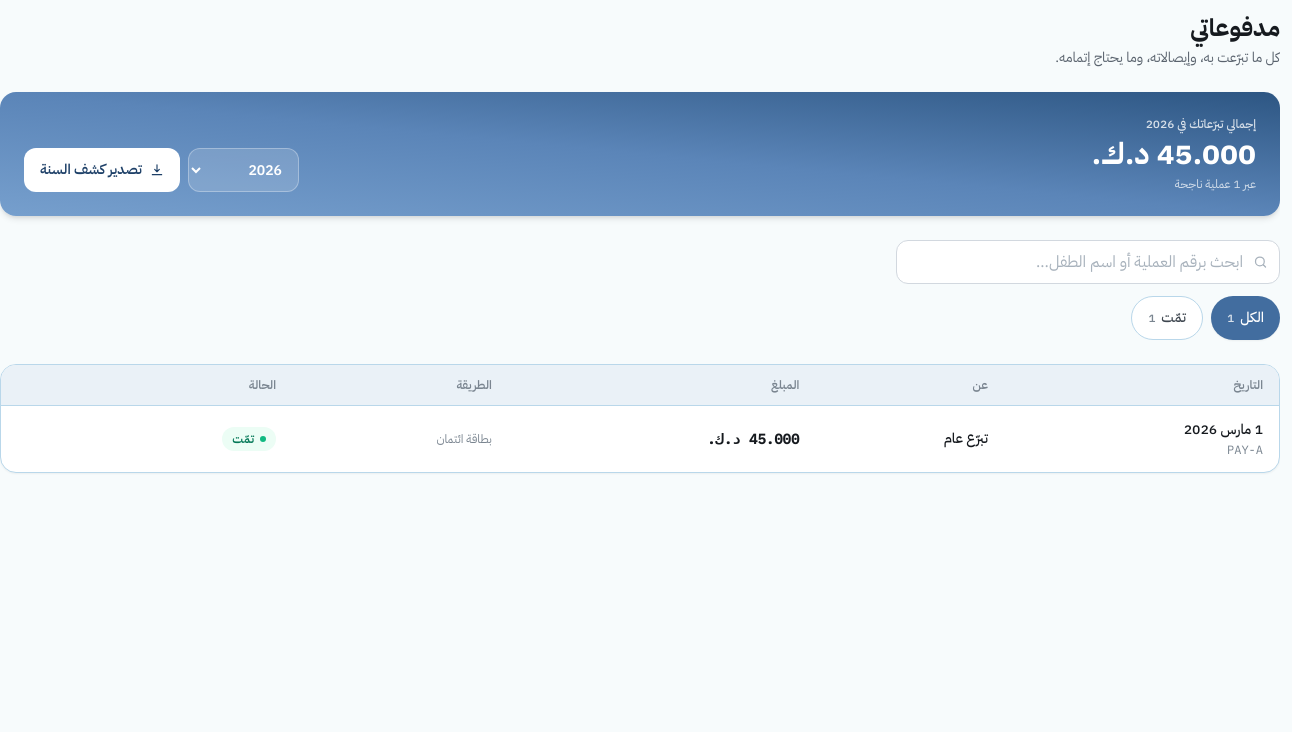
it: DonorPaymentsPage — the record › no search hits → a distinct no-results state with a clear action
Type "غير موجود" into the search field.
click(1088, 262); type("غير موجود")  # box [896,240,1280,284]
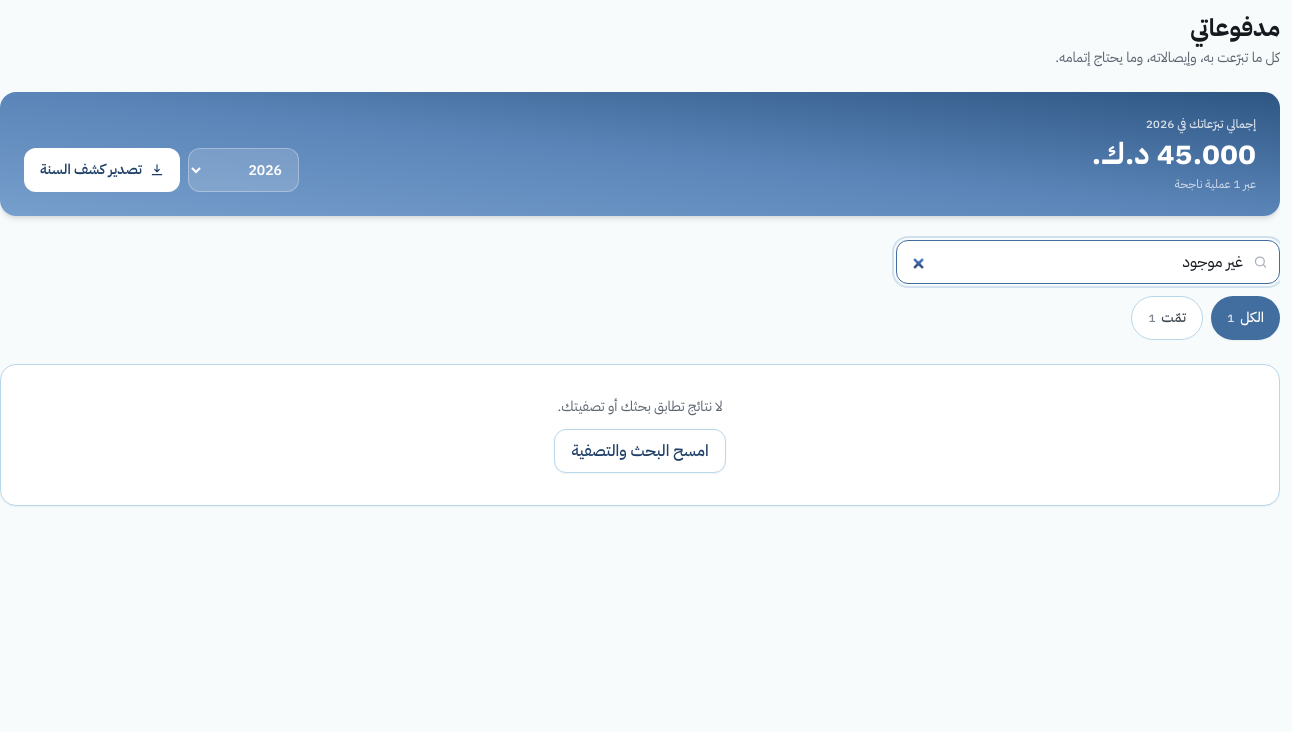
Expected: the text "لا نتائج تطابق بحثك أو تصفيتك." is shown, [557,397,722,417]
Click the button "امسح البحث والتصفية".
click(640, 451)  # box [554,429,726,473]
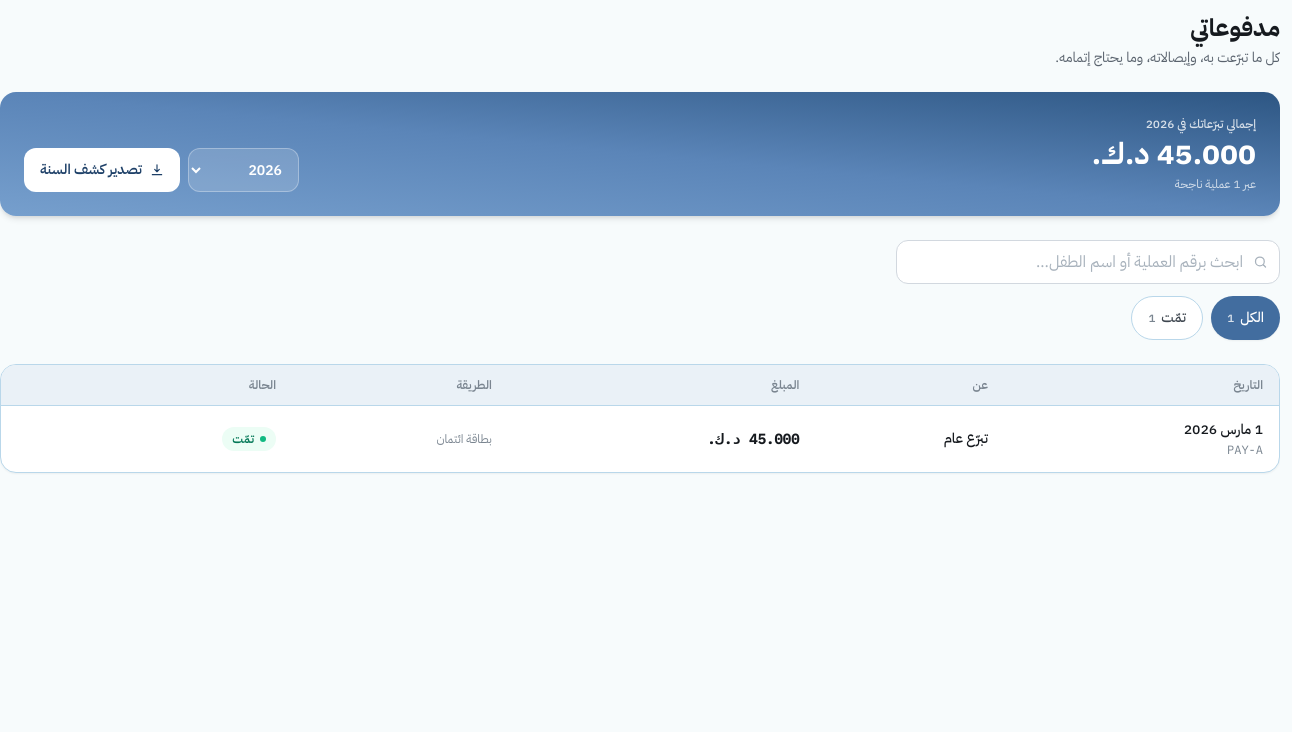
Expected: the text "PAY-A" is shown, [1227,442,1263,457]
